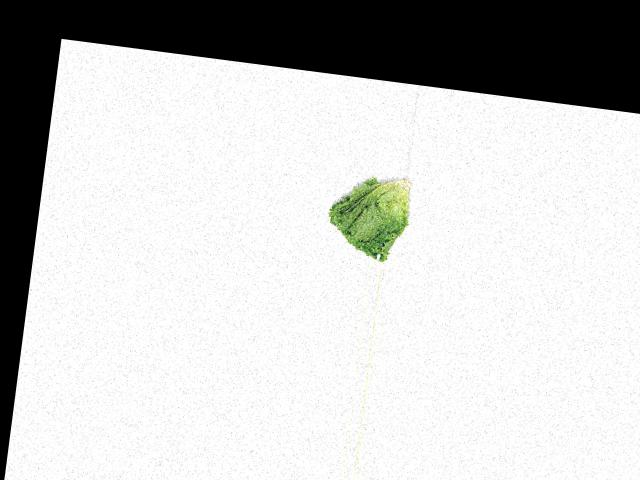lettuce: (316, 165, 420, 264)
